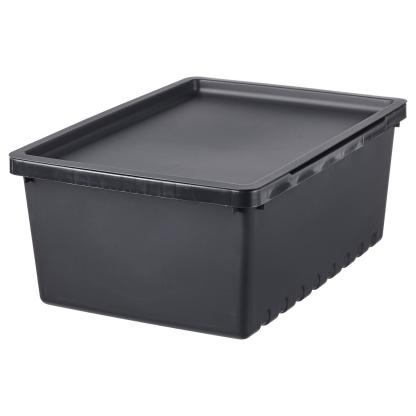plastic_box: (6, 68, 415, 349)
